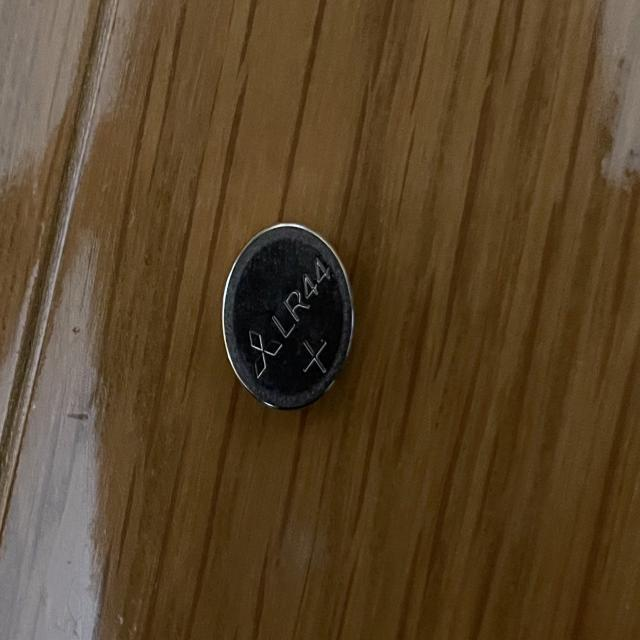COIN: (220, 220, 356, 415)
